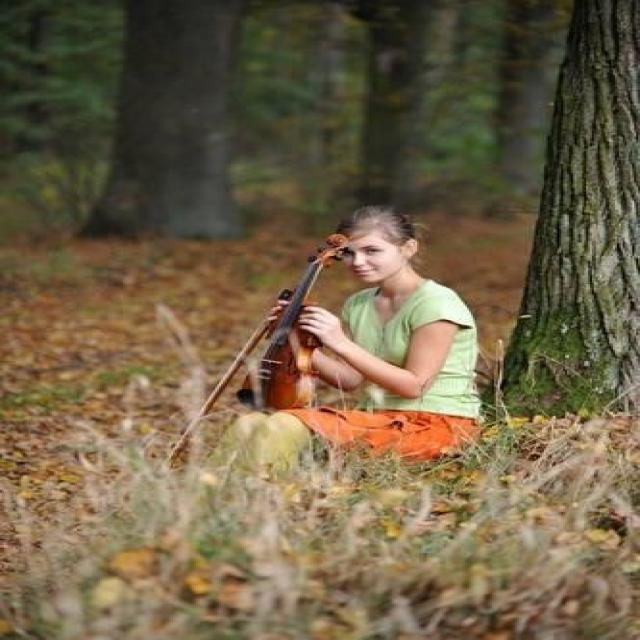violin: (237, 233, 356, 412)
